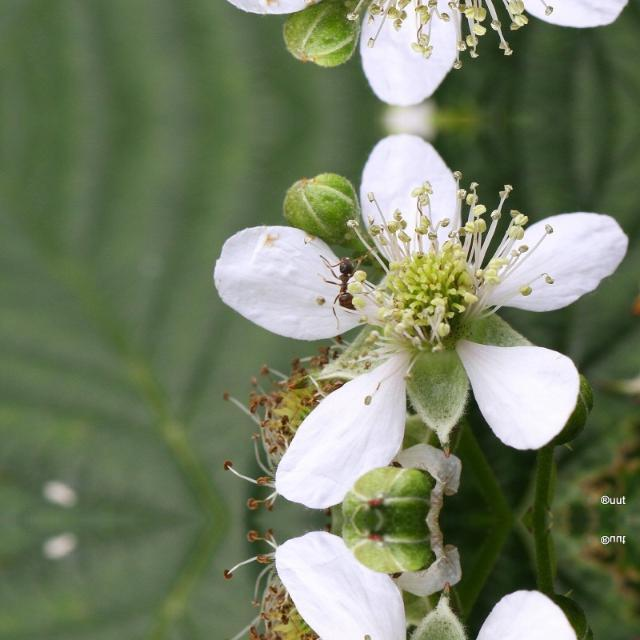Lasius: (325, 252, 387, 324)
